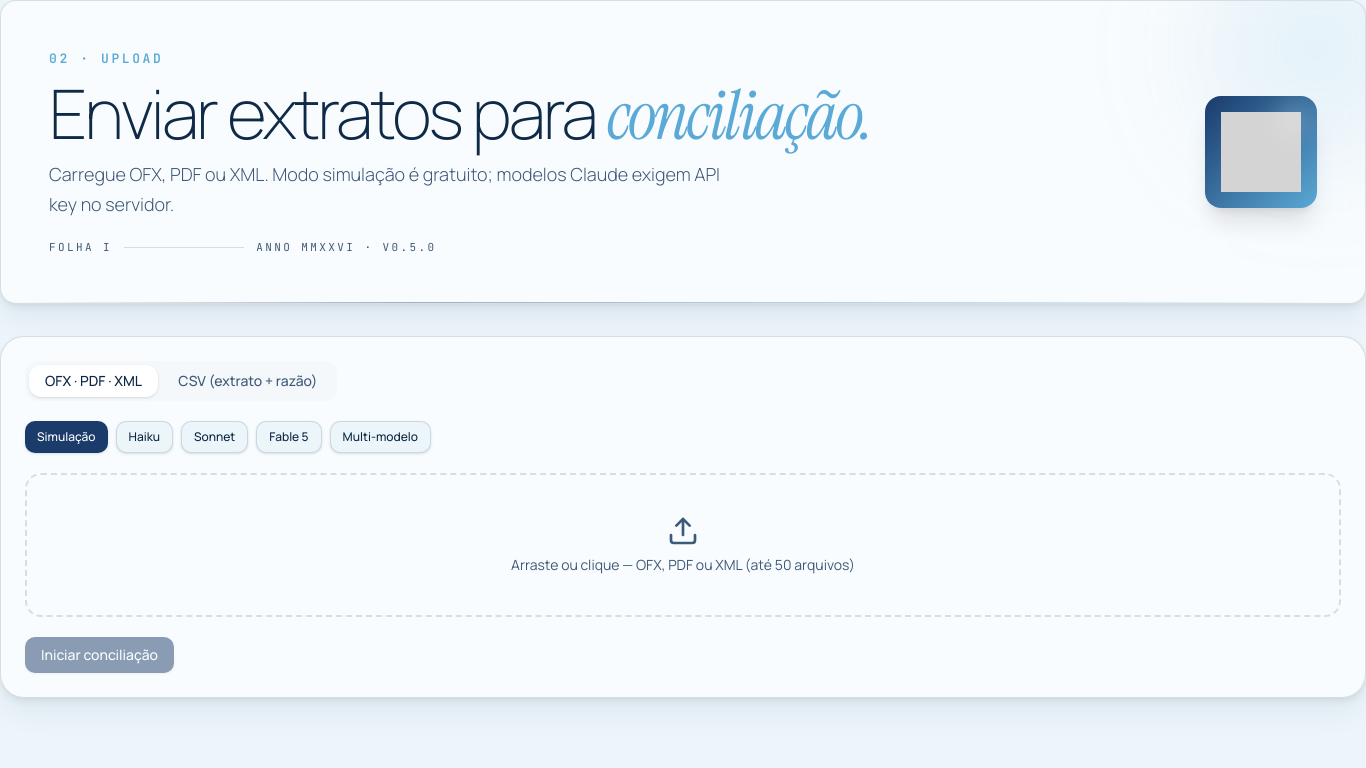
Test case: UploadPage › alterna para o formato CSV e atualiza o texto da drop zone
Click the button "CSV (extrato + razão)" at (248, 381), box [162,365,333,397]
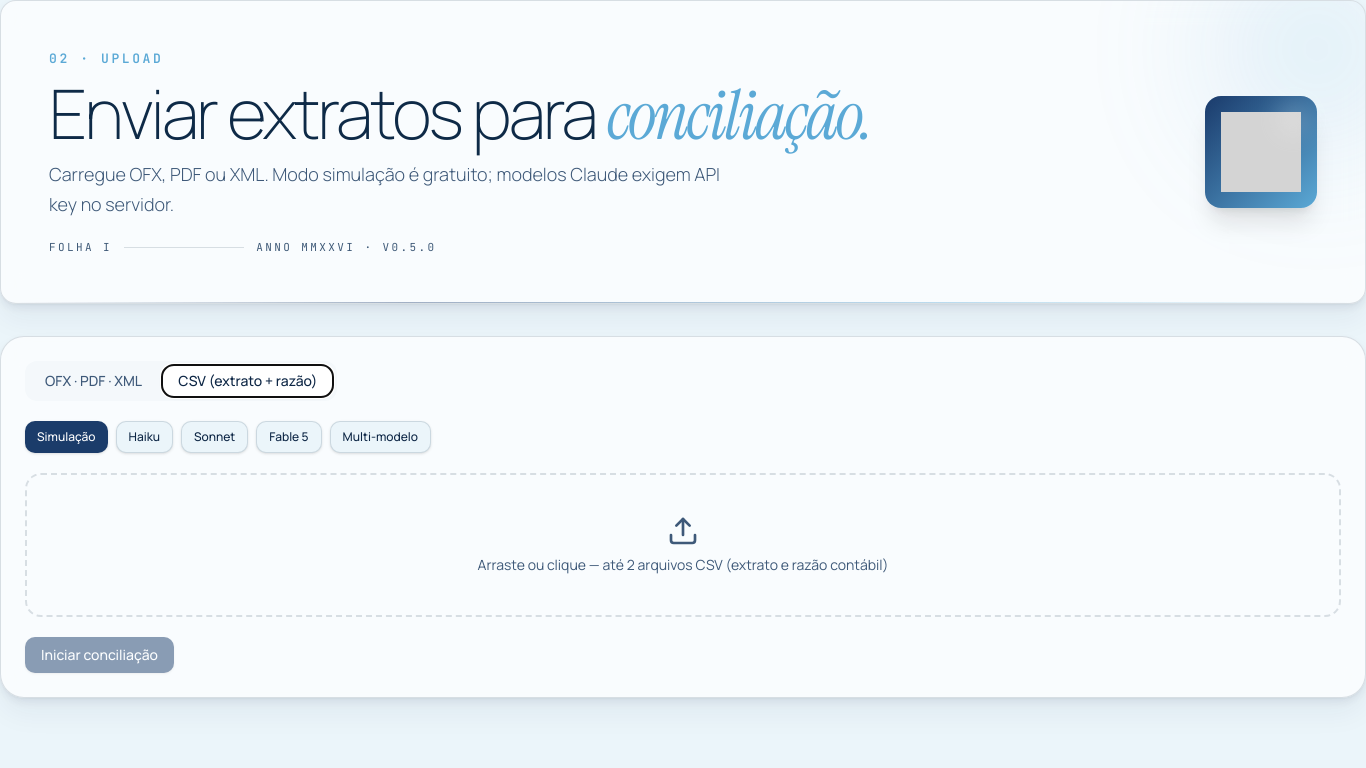
expect the text "Arraste ou clique — até 2 arquivos CSV" is shown: met, box [478,555,888,574]
